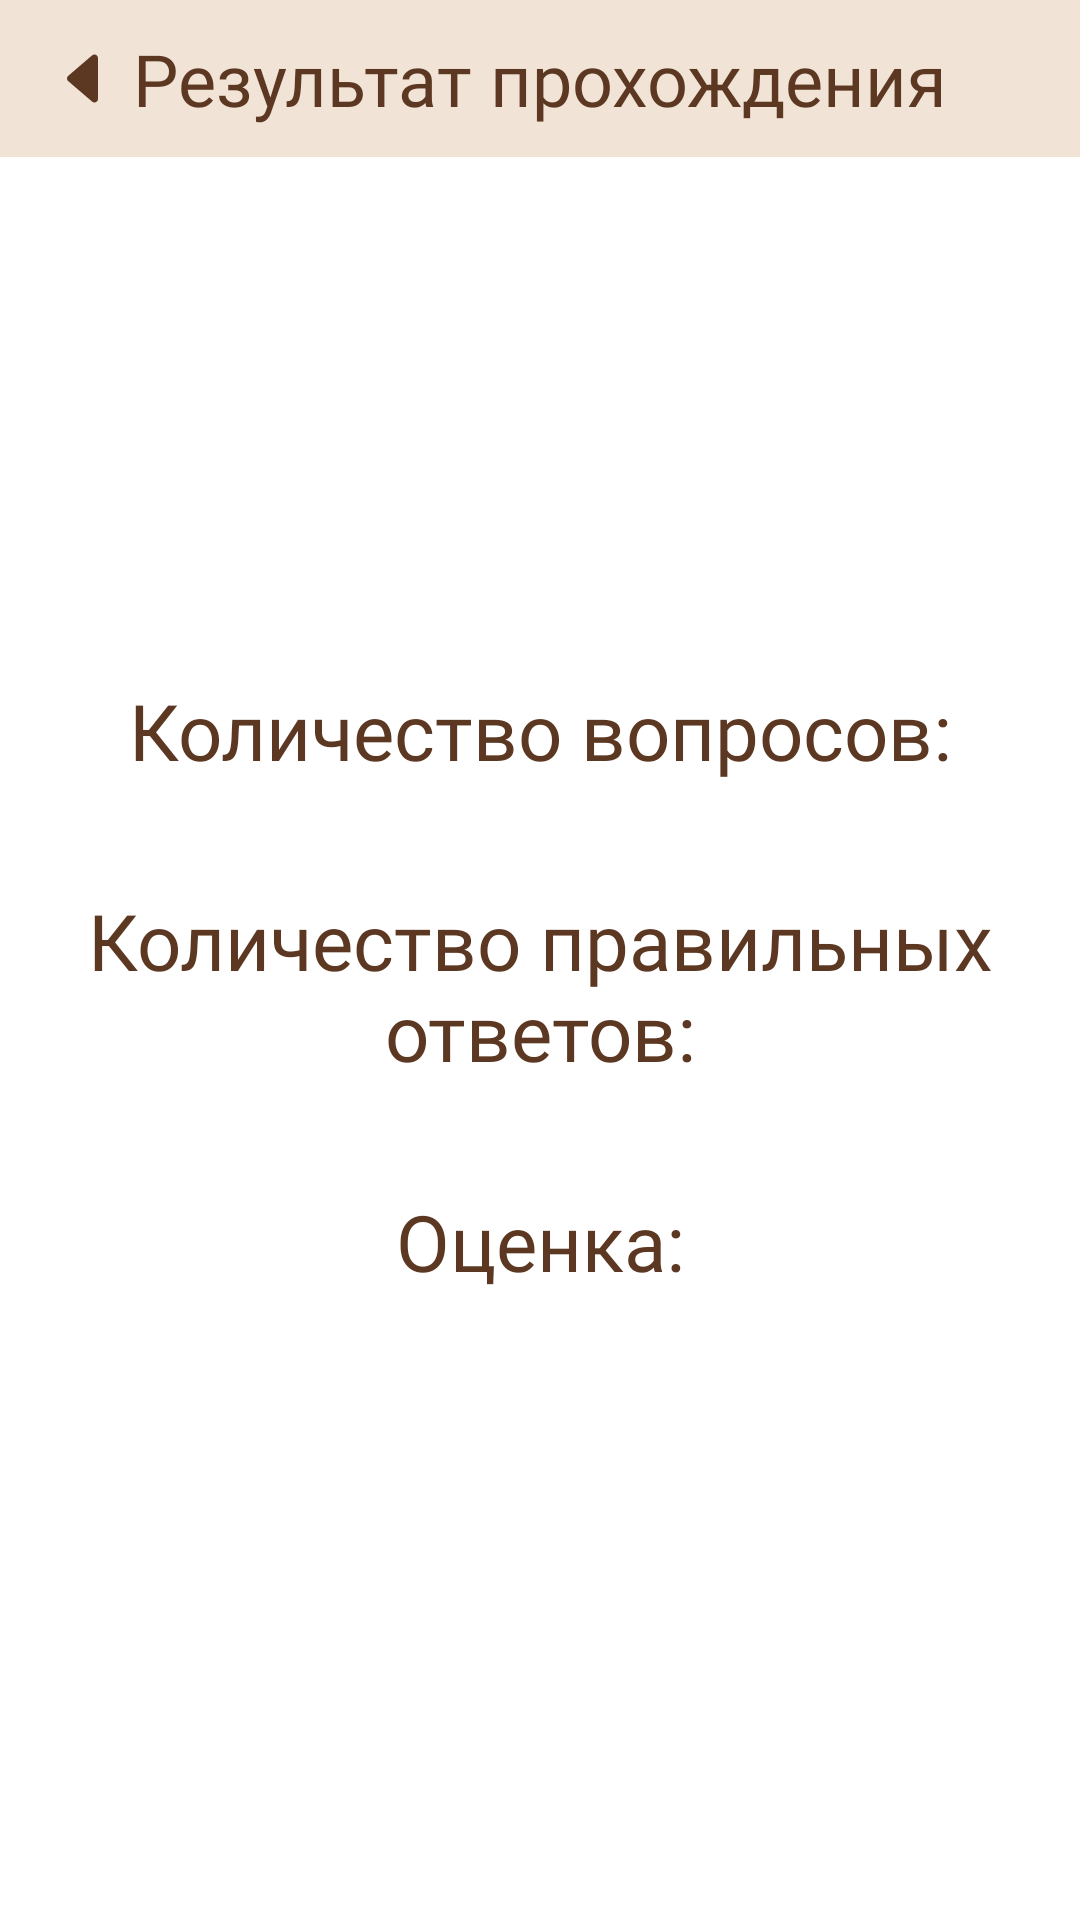

Where icons sit on this 1080 x 1920 app screen, as (x1, y1, x2, y2):
back: (67, 54, 98, 103)
